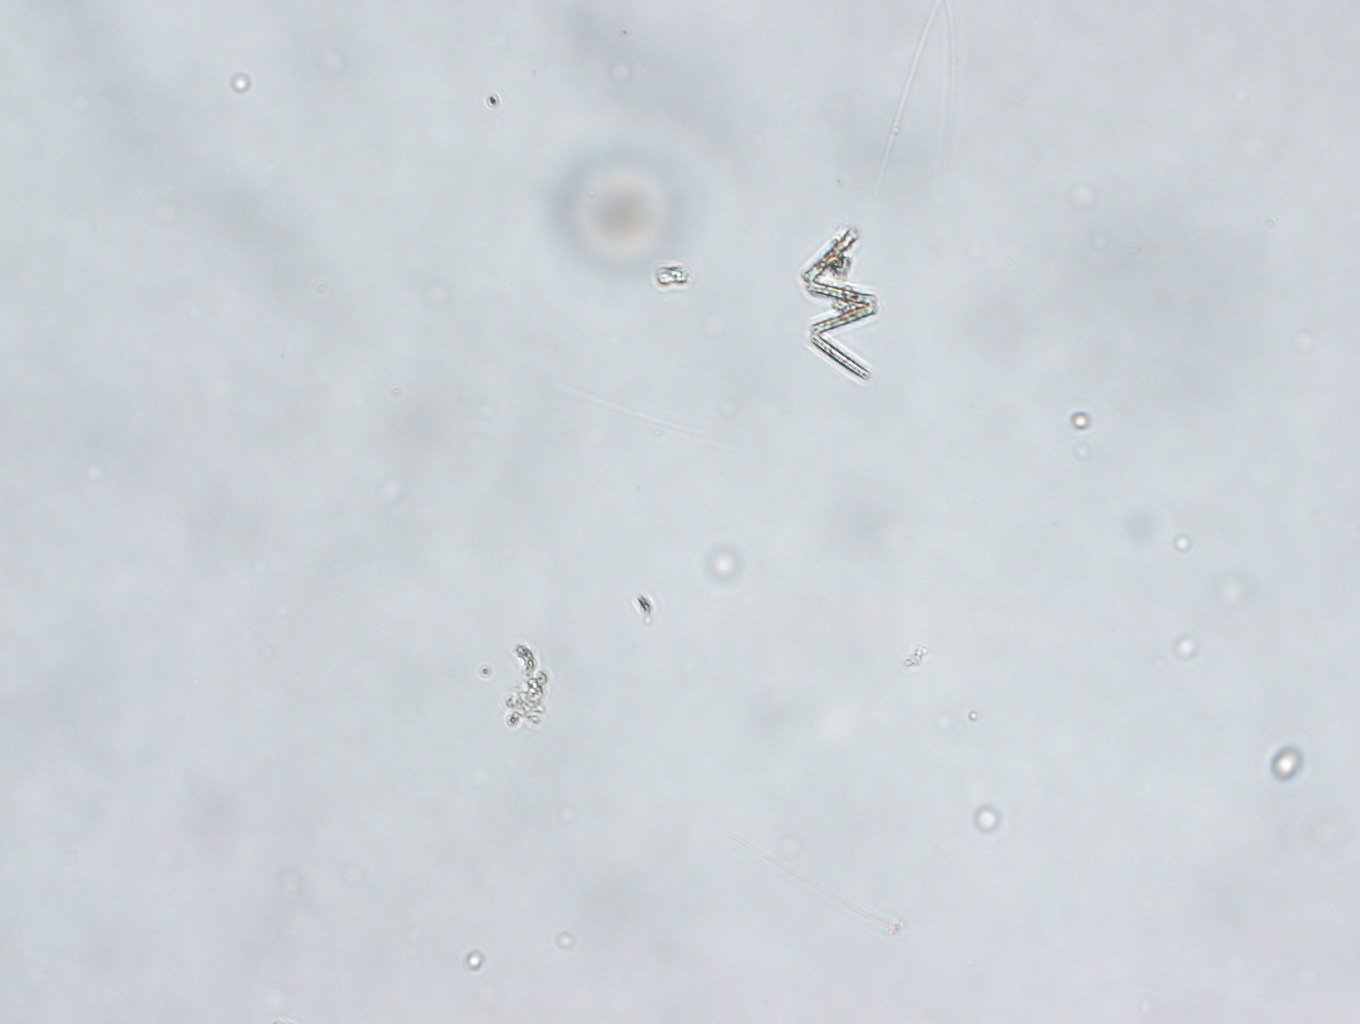thalassionema nitzschioides: (800, 226, 878, 383)
